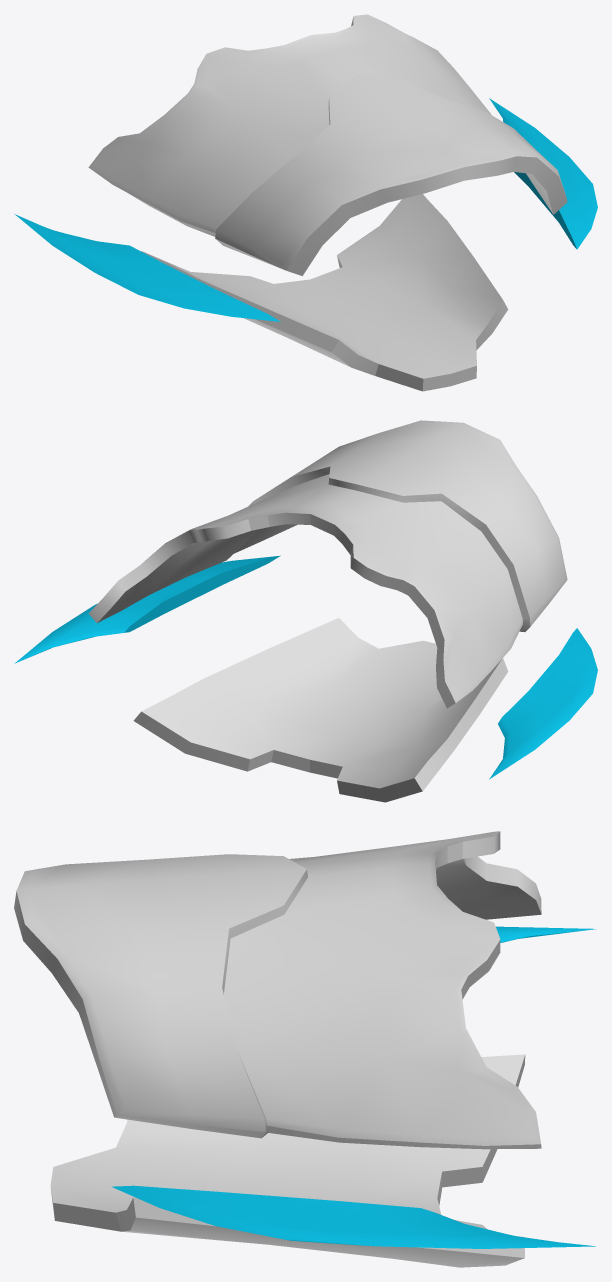
The model's file is small worm.fbx.
3 renders of one model, top to bottom at view 1: azimuth 30°, elevation 25°; view 2: azimuth 150°, elevation 25°; view 3: azimuth 270°, elevation 25°, orthographic. The views are drawn at different scales.
Visible parts, largest first — view 1: Small worm; view 2: Small worm; view 3: Small worm.
Boxes of the visible parts, <box> form: Small worm: <box>14,14,597,391</box>; Small worm: <box>14,420,597,802</box>; Small worm: <box>14,831,595,1267</box>.
Size of the model in its own units: 1.05 by 0.5355 by 0.8025.
